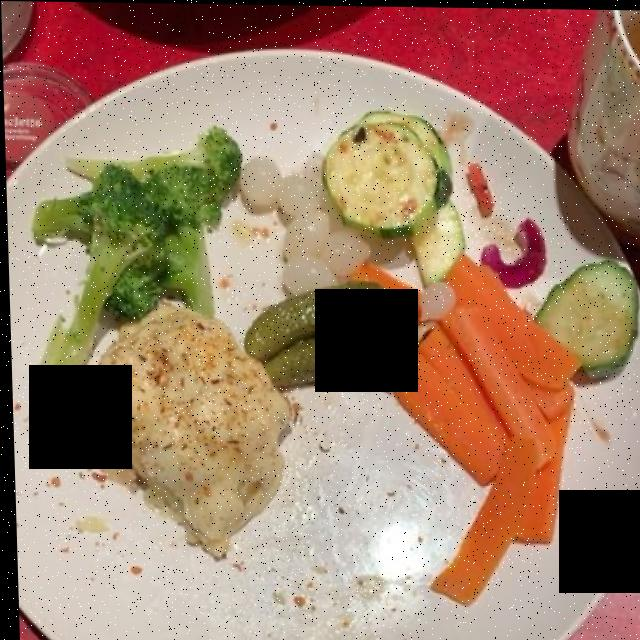broccoli: (29, 130, 232, 379)
carrot-raw: (355, 251, 570, 596)
cheese-for-raclette: (92, 304, 297, 539)
cucumber: (535, 256, 640, 375)
cucumber-pickled: (242, 284, 400, 384)
mashed-potatoes-prepared-with-full-fat-milk-with-butter: (67, 294, 296, 550)
zucchini: (329, 104, 458, 270)
